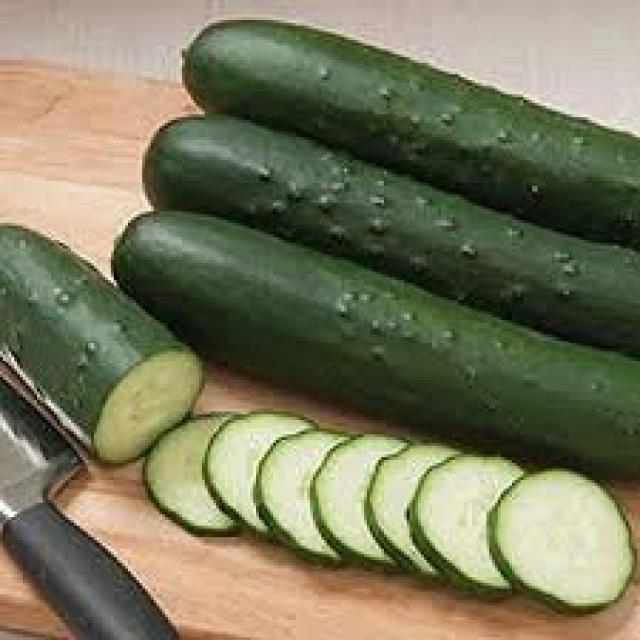cucumber: (111, 17, 640, 466)
